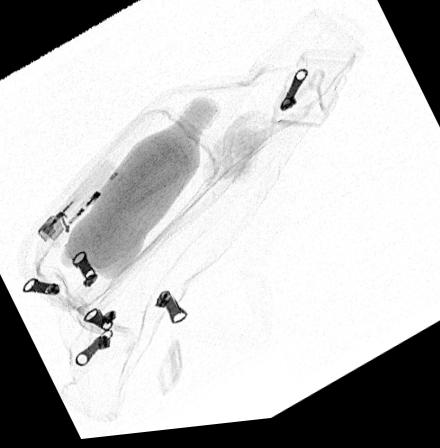Lighter: (37, 160, 124, 247)
